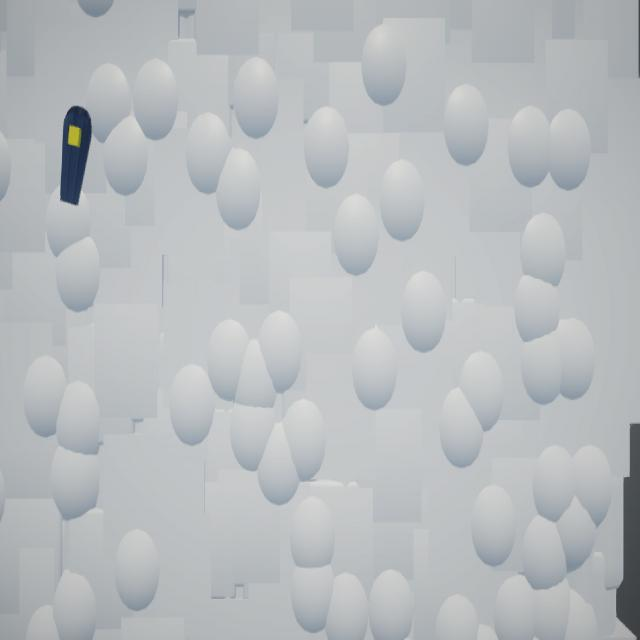handle_folk: (61, 106, 93, 208)
